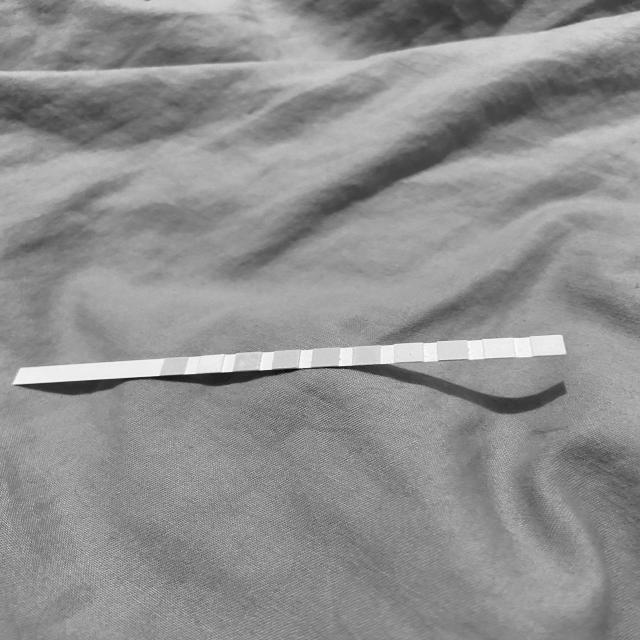Bilirubin: (200, 356, 221, 372)
Blood: (314, 349, 338, 366)
Glucose: (164, 358, 185, 374)
Ketone: (237, 354, 260, 369)
Leukocytes: (533, 336, 564, 356)
Nitrite: (483, 340, 512, 357)
Protein: (395, 344, 423, 361)
SpGravity: (274, 351, 299, 368)
Urobilinogen: (438, 342, 468, 359)
background: (0, 0, 640, 640)
pH: (353, 347, 380, 365)
strip: (12, 335, 567, 384)
